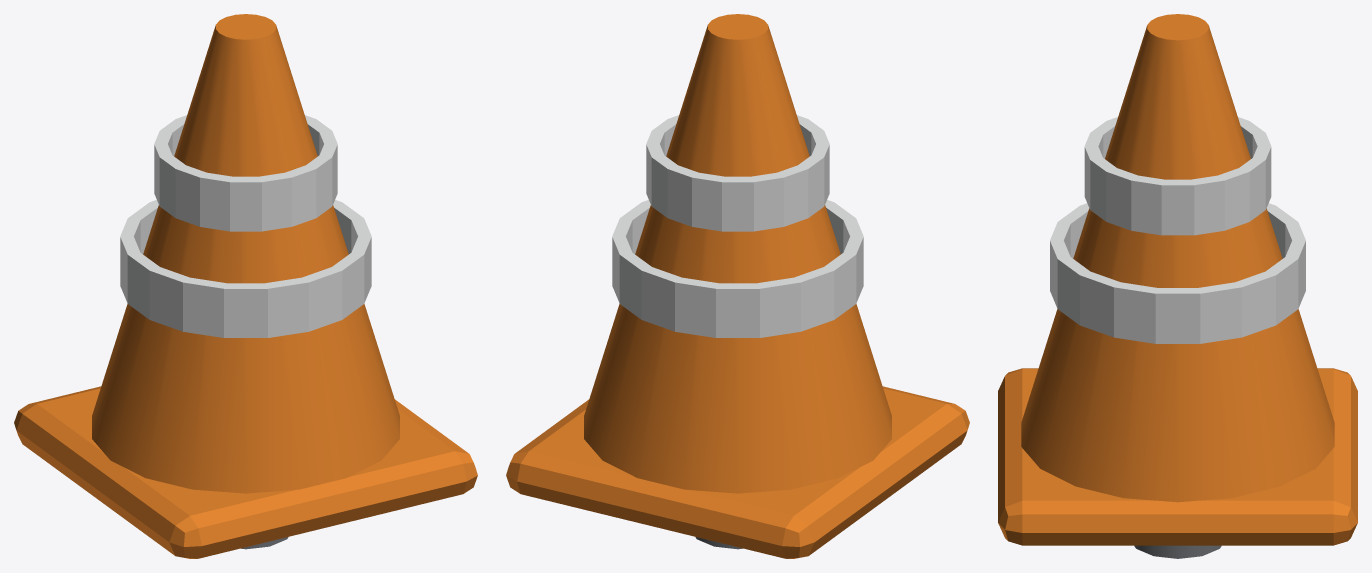
The model's file is bob_cone.fbx.
3 views of the same model, side by side, from view 1: azimuth 30°, elevation 25°; view 2: azimuth 150°, elevation 25°; view 3: azimuth 270°, elevation 25° (orthographic).
Visible parts, largest first — view 1: orange_1, white_1; view 2: orange_1, white_1; view 3: orange_1, white_1, gun_1.
Boxes of the visible parts, x1,y1,x2,y2 form: orange_1: (14, 14, 477, 558); white_1: (120, 115, 371, 337); orange_1: (506, 14, 969, 558); white_1: (612, 115, 863, 337); orange_1: (998, 14, 1357, 545); white_1: (1050, 117, 1305, 343); gun_1: (1134, 545, 1221, 558).
Bounding box in the file's own units: 0.0096 × 0.015 × 0.0096.
